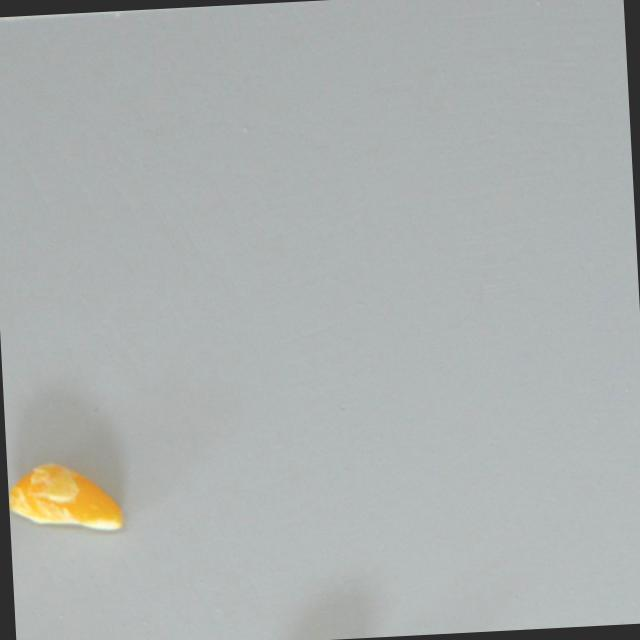dañado: (7, 448, 138, 547)
